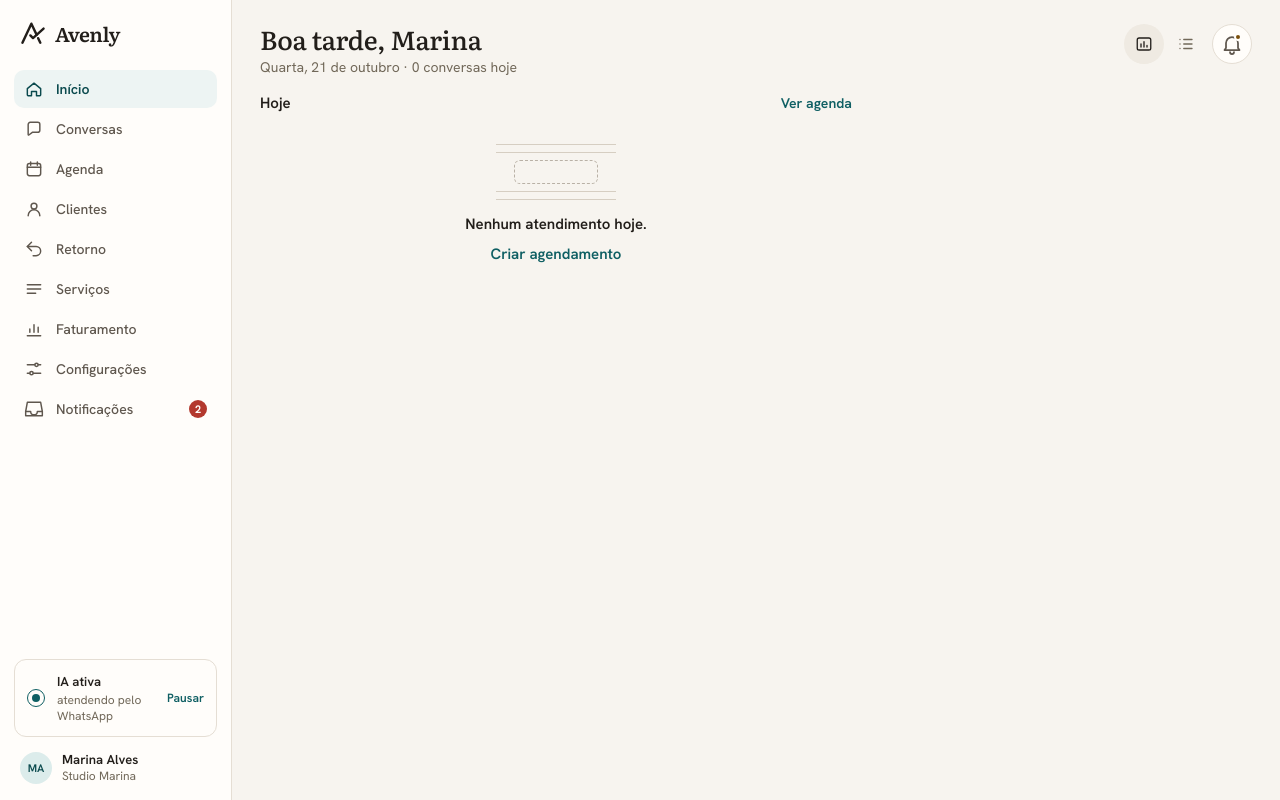
a gaveta: ver é ler › fechar zera o badge e o sino na hora, sem esperar o próximo poll
This screenshot has width=1280, height=800.
Click the button named "Notificações, 2 não lidas". click: {"x": 1232, "y": 44}
box: [1212,24,1252,64]
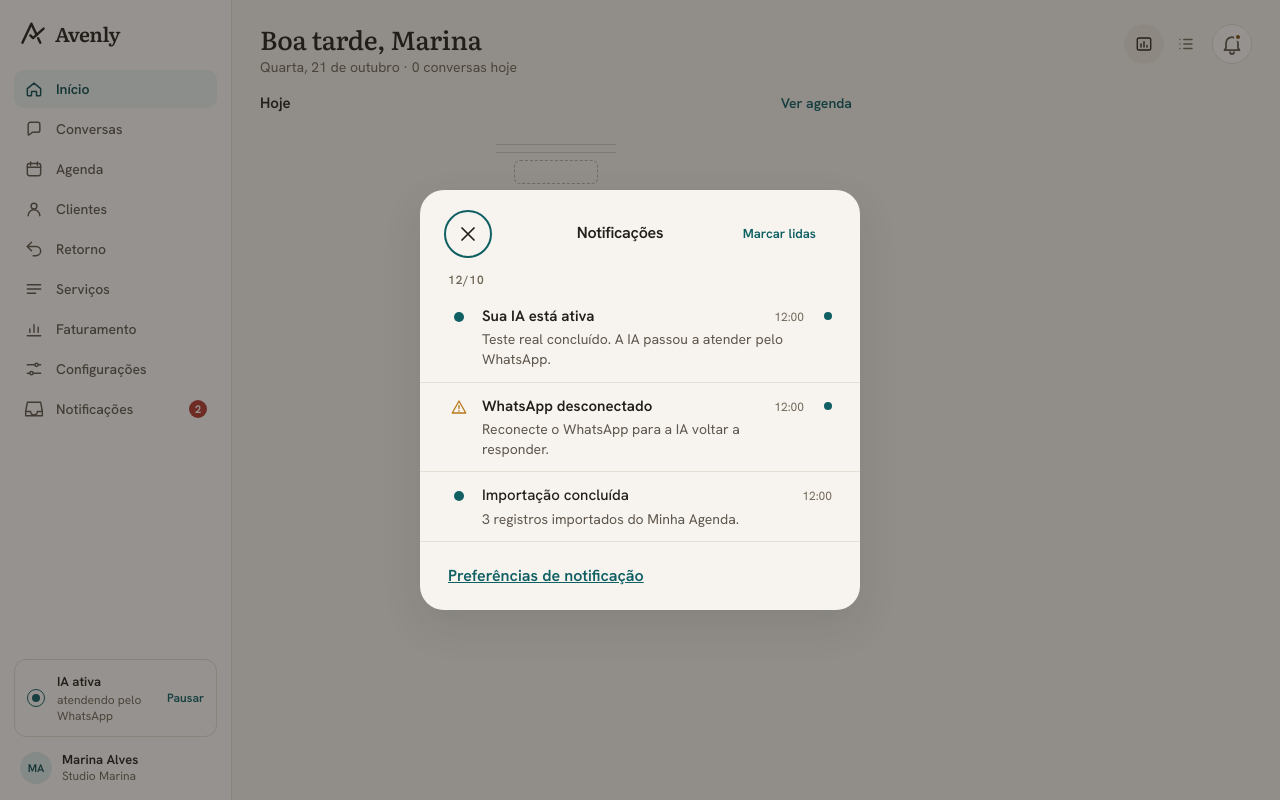
Expected: the text "2" is shown, [189,400,207,418]
Click the button named "Fechar". click: {"x": 468, "y": 234}
box: [448,214,488,254]
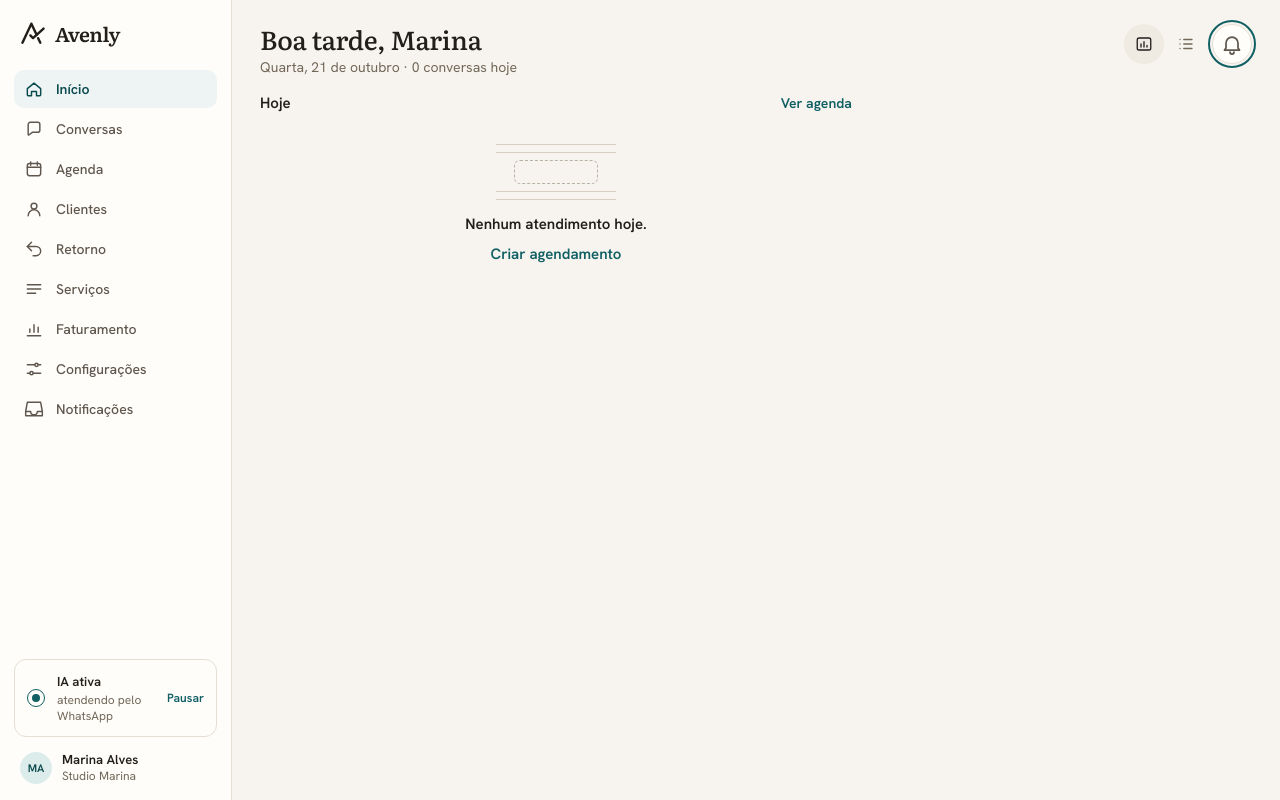
Expected: the button named "Notificações" is shown, [1212,24,1252,64]
Expected: the text with class "badge-count" is gone
